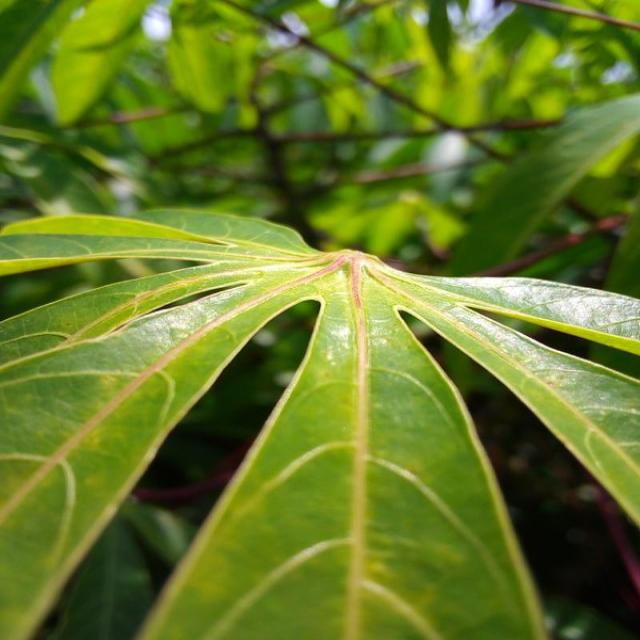cassava leaf: (1, 208, 638, 638)
